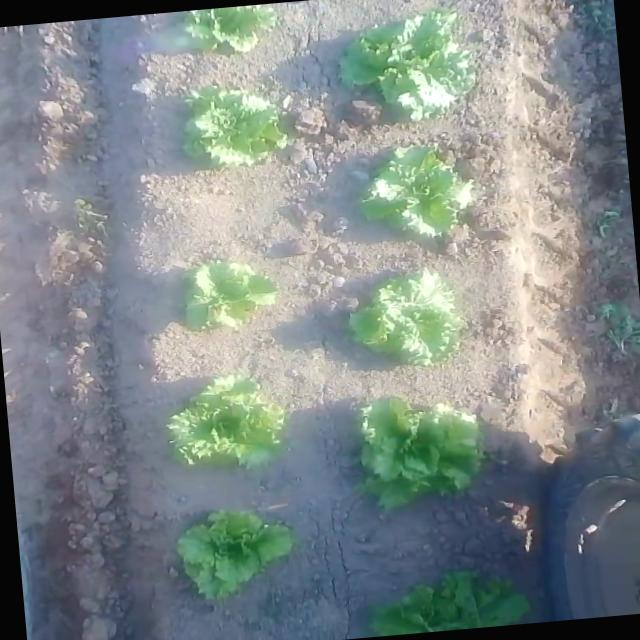Lettuce-Ready-to-Harvest: (356, 386, 488, 511), (338, 10, 480, 124), (164, 370, 288, 475), (346, 266, 466, 371), (173, 503, 295, 600), (357, 141, 464, 244), (177, 80, 286, 173), (176, 254, 284, 333)
